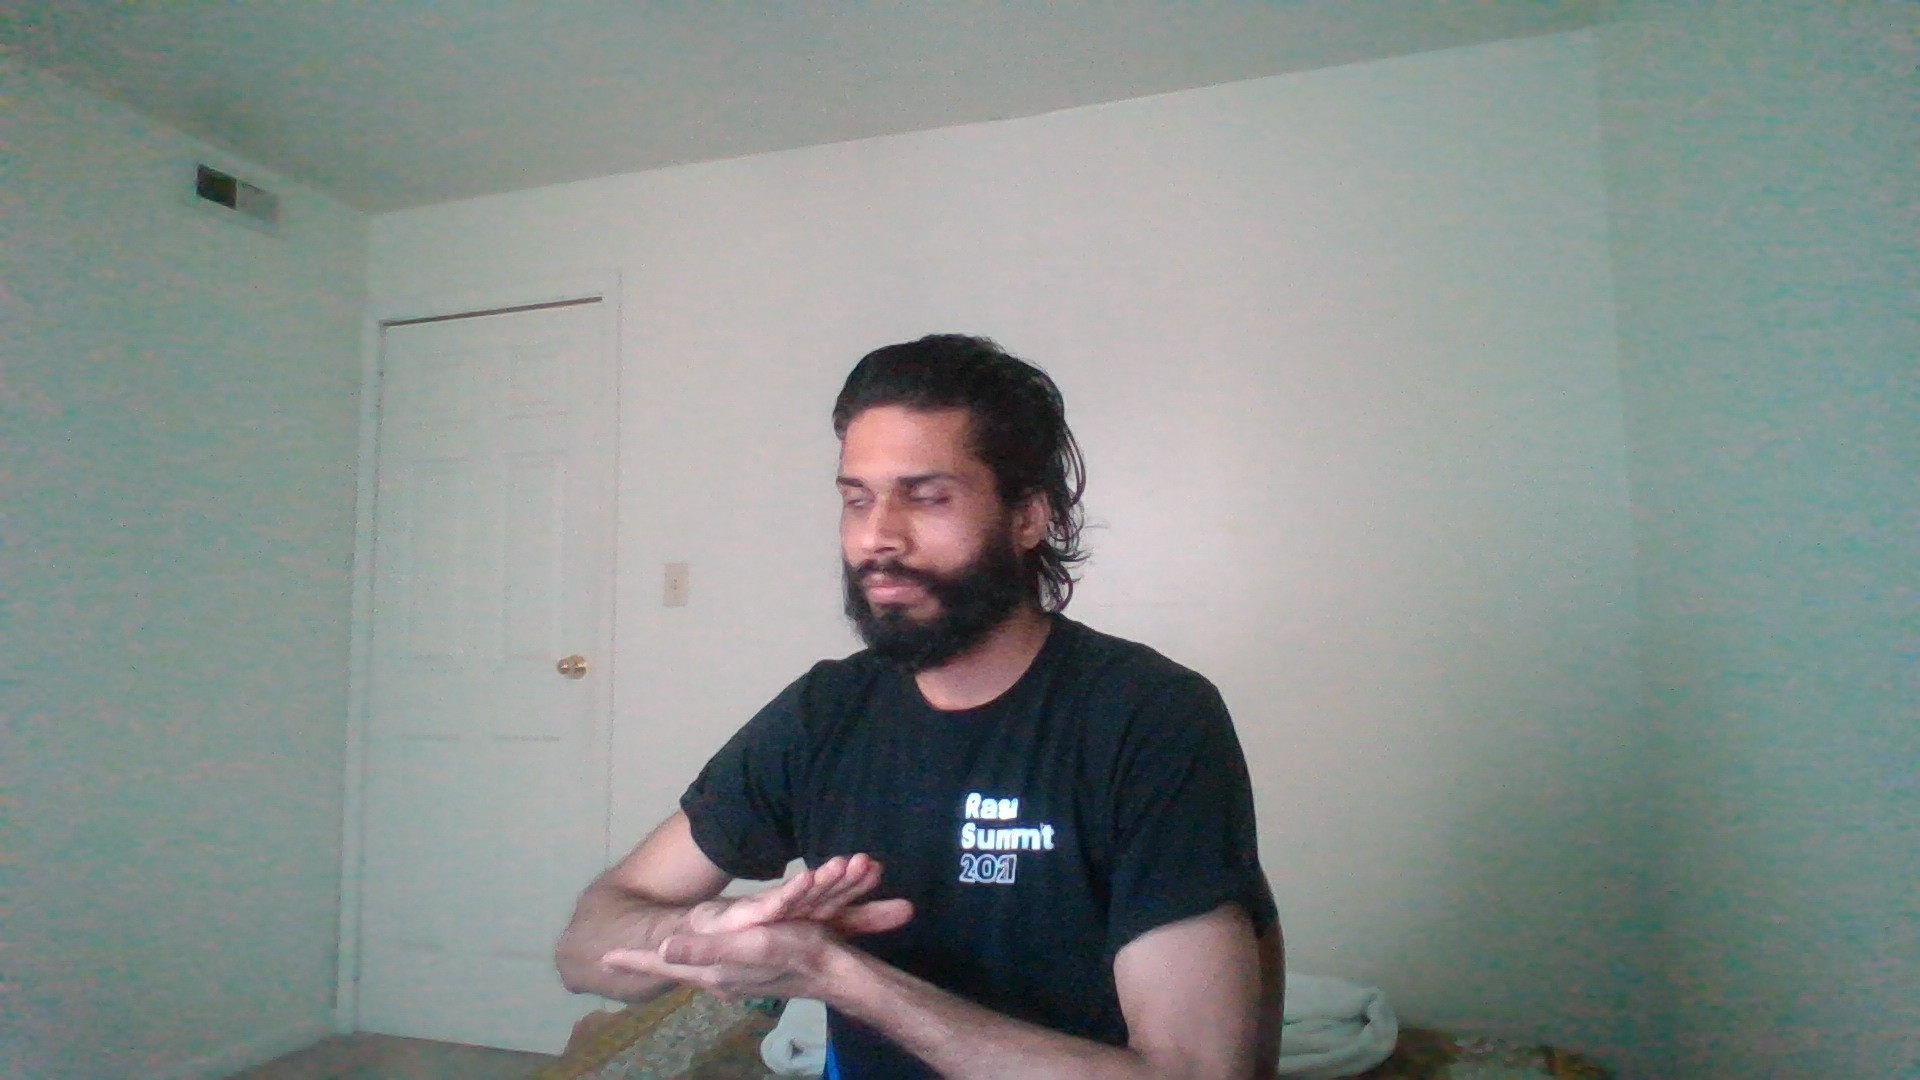Cheese: (560, 816, 993, 1054)
